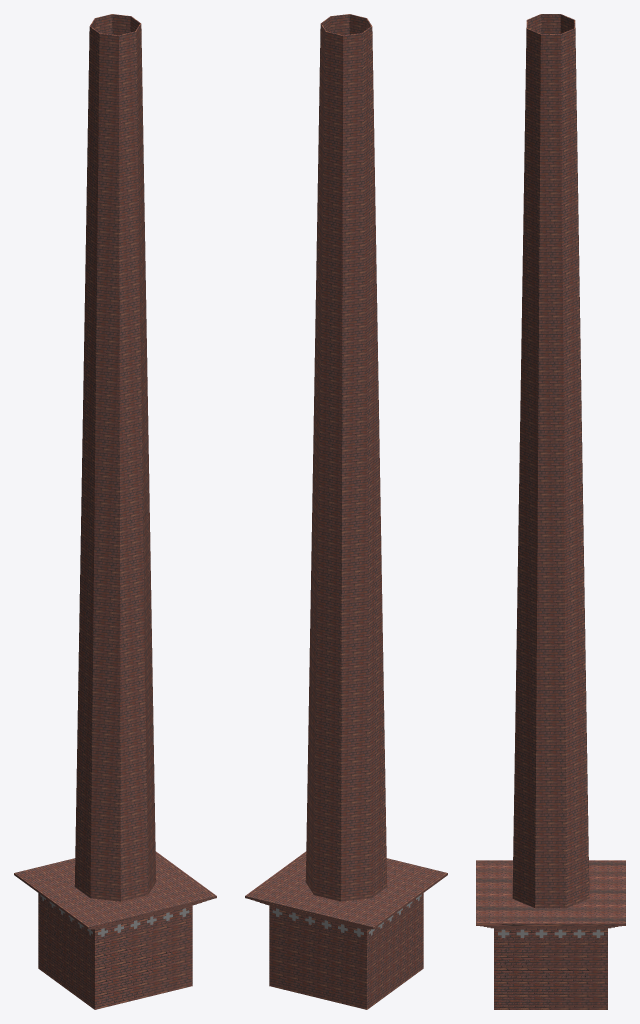
The model's file is attila.obj.
The picture shows the model from 3 angles, left to right: view 1: azimuth 30°, elevation 25°; view 2: azimuth 150°, elevation 25°; view 3: azimuth 270°, elevation 25°; orthographic projection.
Visible parts, largest first — view 1: Cube.005_Cube.013; view 2: Cube.005_Cube.013; view 3: Cube.005_Cube.013.
Boxes of the visible parts, x1=… form: Cube.005_Cube.013: x1=14, y1=14, x2=216, y2=1009; Cube.005_Cube.013: x1=245, y1=14, x2=447, y2=1009; Cube.005_Cube.013: x1=476, y1=14, x2=625, y2=1009.
Size of the model in its own units: 5.13 by 36.3 by 5.13.
Materials: 3 (2 with a texture image).
